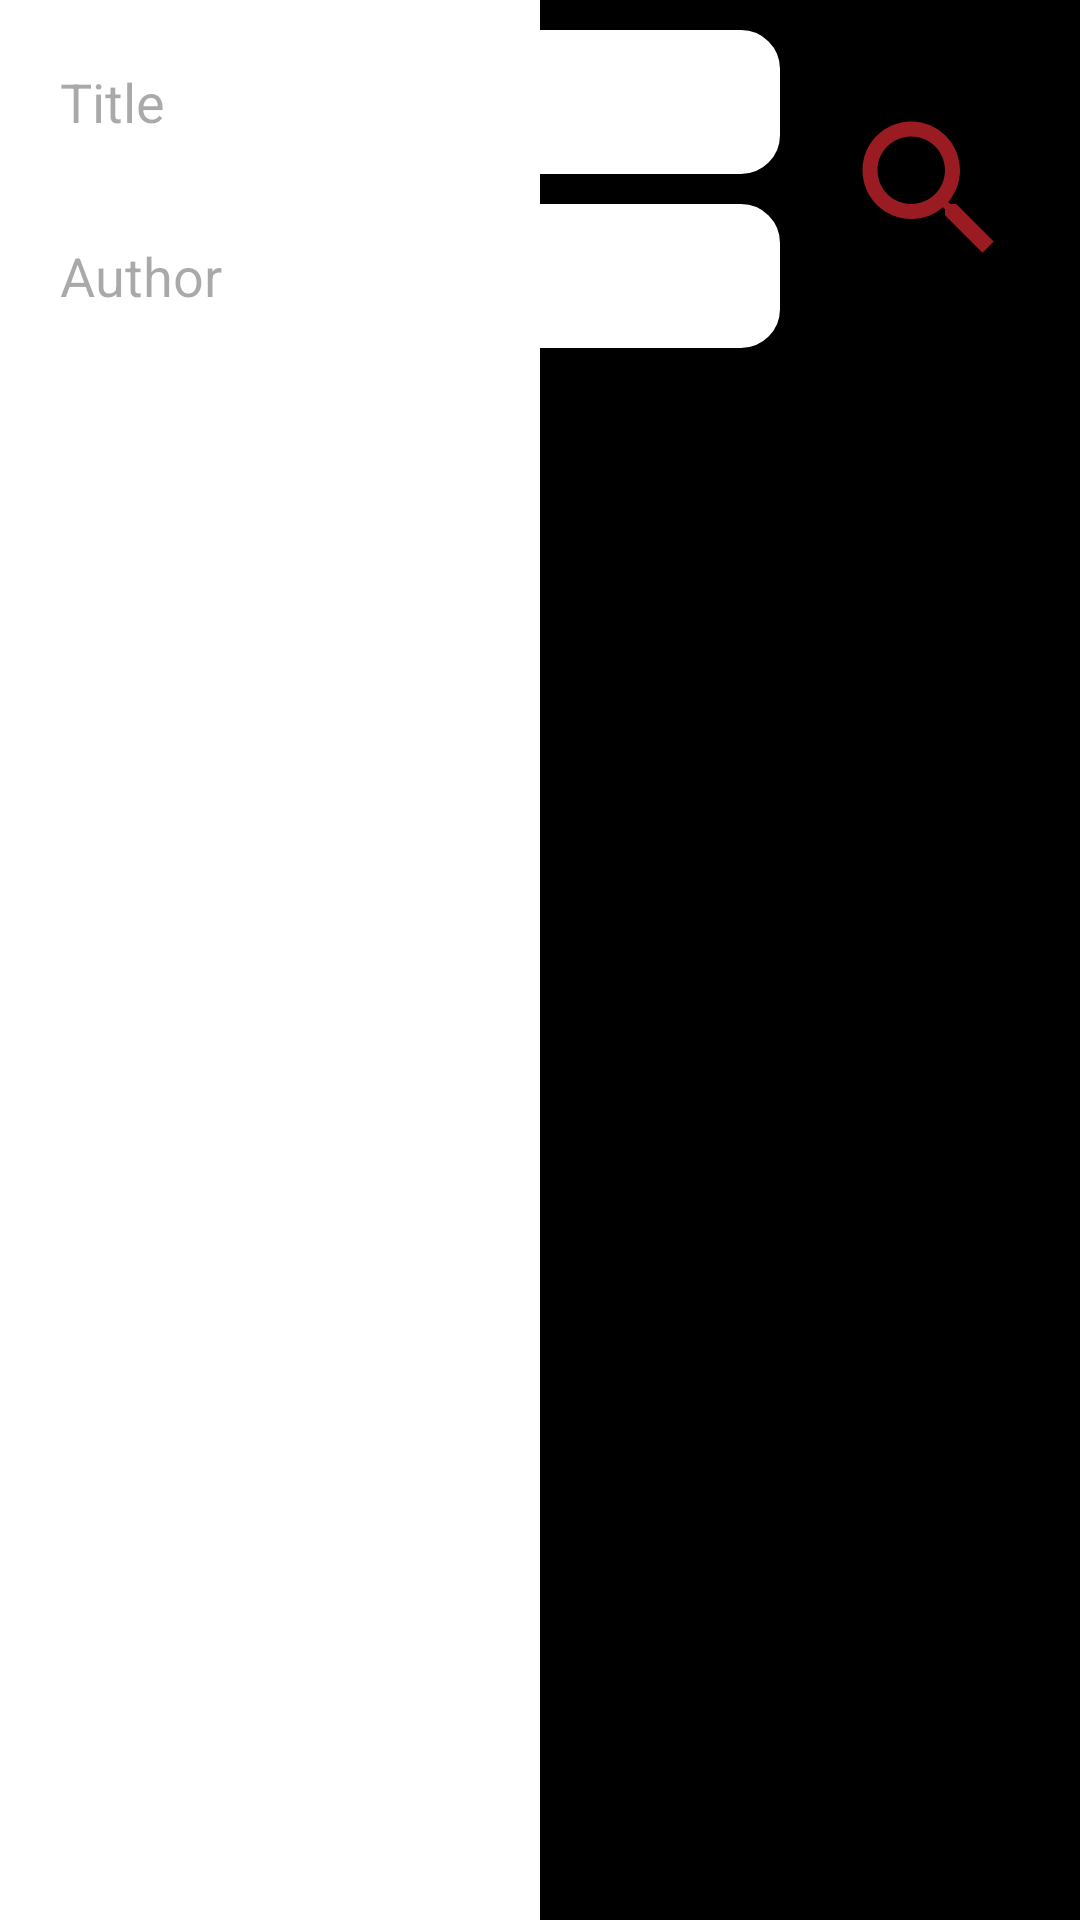

Screen size 1080 x 1920. Icon name, then its box in pixels as (left=x1, top=y1, right=x2, bottom=y2):
Search: (left=862, top=121, right=994, bottom=253)
